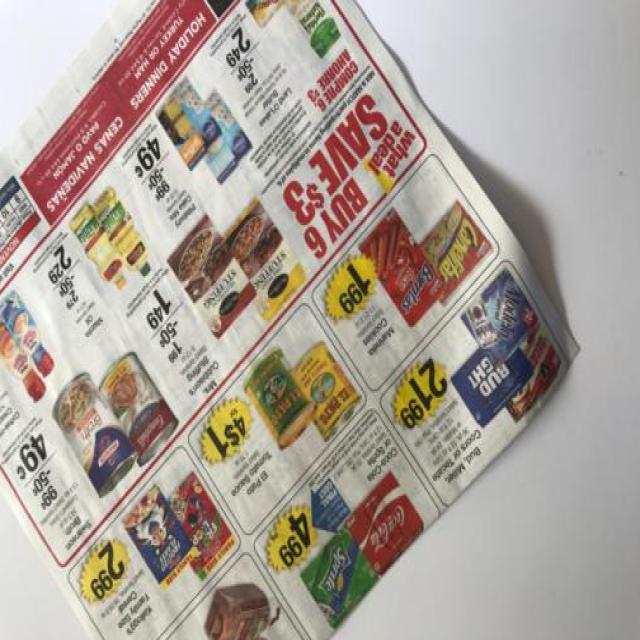kertas: (0, 0, 583, 640)
